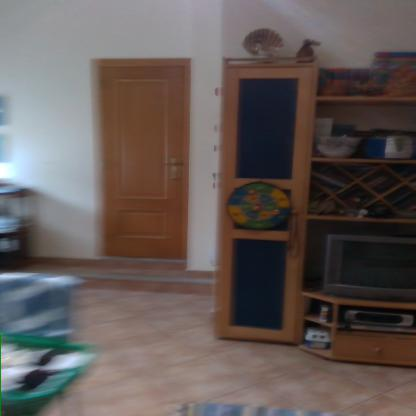door: (99, 65, 184, 258)
hinged: (102, 226, 108, 242), (98, 78, 104, 90), (99, 158, 105, 170)
lever: (156, 162, 178, 167)
